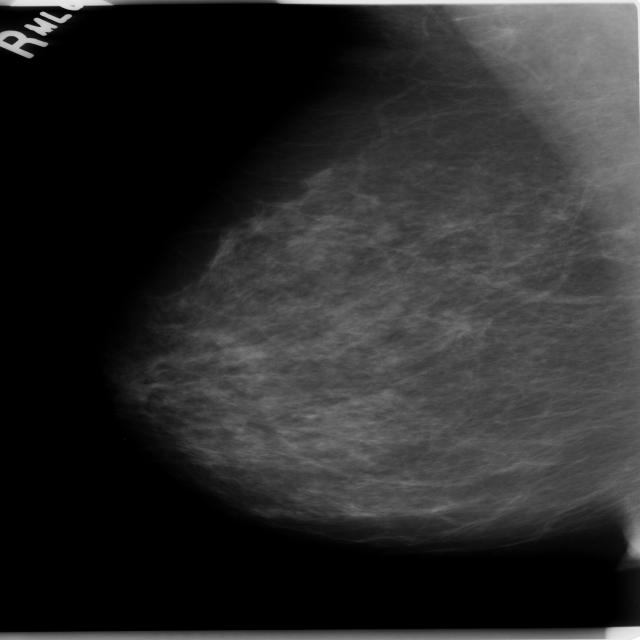normal: (133, 87, 640, 572)
